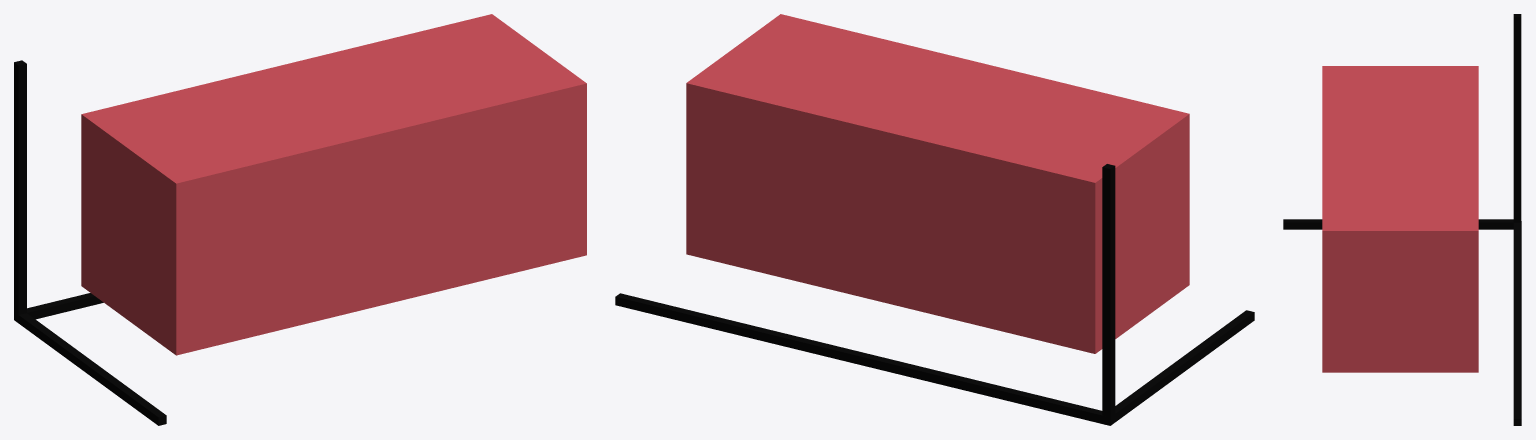
Rendered from ortoedro.gltf.
The picture shows the model from 3 angles, left to right: view 1: azimuth 30°, elevation 25°; view 2: azimuth 150°, elevation 25°; view 3: azimuth 270°, elevation 25°; orthographic projection. The views are drawn at different scales.
Size of the model in its own units: 0.121 by 0.06 by 0.061.
